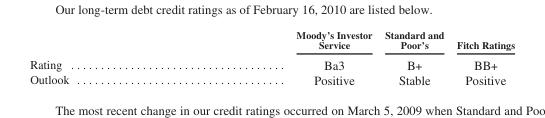table: (29, 28, 514, 86)
table column: (182, 28, 377, 86), (29, 28, 182, 86), (377, 28, 449, 86), (449, 28, 514, 86)
table column header: (29, 28, 514, 53)
table row: (29, 28, 514, 53), (29, 53, 514, 71), (29, 71, 514, 86)
